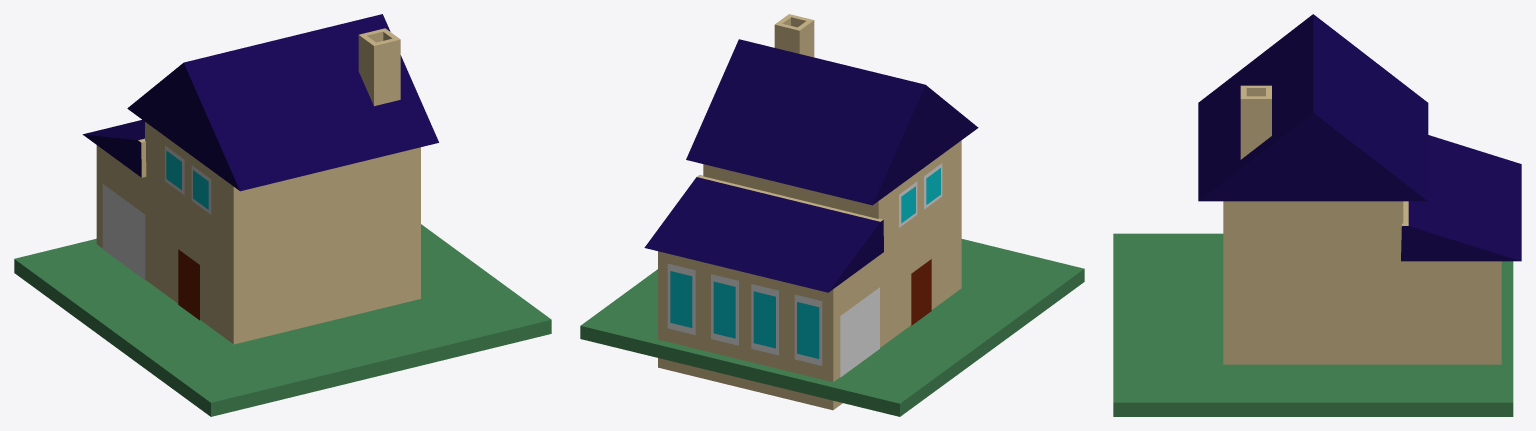
The model's file is garaje.fbx.
The picture shows the model from 3 angles, left to right: view 1: azimuth 30°, elevation 25°; view 2: azimuth 150°, elevation 25°; view 3: azimuth 270°, elevation 25°; orthographic projection. The views are drawn at different scales.
Parts seen in each view (by area): view 1: Cube.001, Cube, Cube.002, Plane.020, Plane.008; view 2: Cube.002, Cube.001, Cube, Plane.020, Plane.012, Plane.009, Plane.011, Plane.010, Plane.008, Plane.013, Plane.015, Plane.014 (+1 smaller); view 3: Cube.002, Cube.001, Cube.
Boxes of the visible parts, bbox=[...] form: Cube.001: bbox=[96, 28, 420, 344]; Cube: bbox=[14, 224, 551, 416]; Cube.002: bbox=[82, 14, 438, 191]; Plane.020: bbox=[102, 184, 145, 279]; Plane.008: bbox=[178, 249, 199, 320]; Cube.002: bbox=[644, 39, 978, 292]; Cube.001: bbox=[658, 14, 961, 410]; Cube: bbox=[580, 239, 1084, 416]; Plane.020: bbox=[840, 287, 879, 377]; Plane.012: bbox=[753, 291, 775, 348]; Plane.009: bbox=[713, 281, 735, 338]; Plane.011: bbox=[797, 302, 819, 358]; Plane.010: bbox=[670, 271, 692, 327]; Plane.008: bbox=[911, 259, 931, 325]; Plane.013: bbox=[667, 263, 695, 334]; Plane.015: bbox=[794, 294, 822, 365]; Plane.014: bbox=[711, 274, 738, 345]; Cube.002: bbox=[1198, 14, 1521, 261]; Cube.001: bbox=[1223, 85, 1501, 364]; Cube: bbox=[1113, 233, 1513, 416].
Size of the model in its own units: 200 by 160 by 204.
